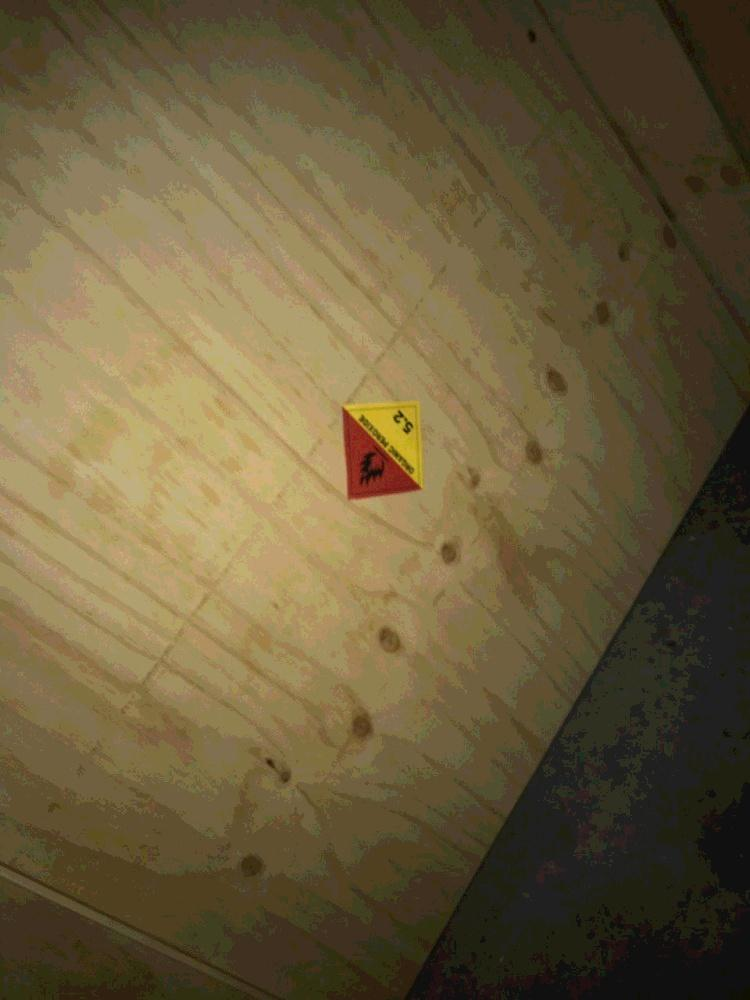organic-peroxide: (339, 398, 425, 504)
